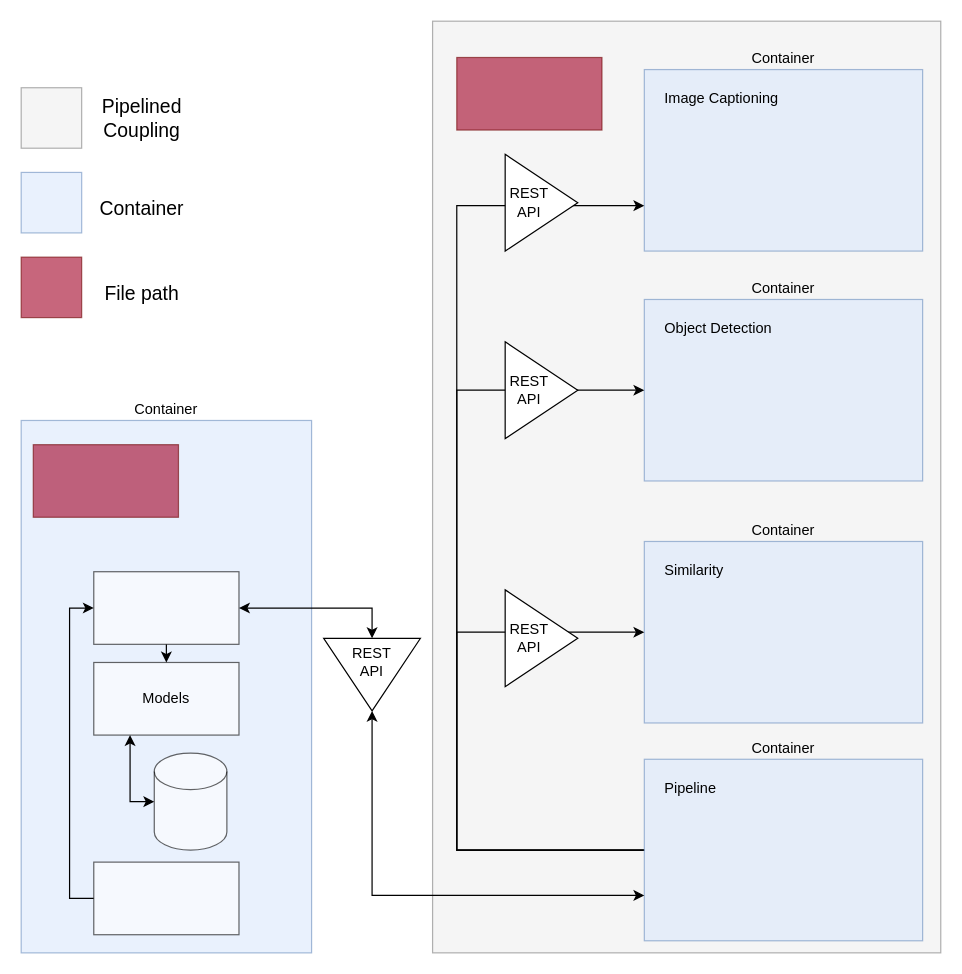
This 962x974 diagram has some shape labels left out. The shapes that lost their labels are listed below. From the top down, each one's centre as x and y in pixels, then its label:
the point at 529,93: /describe/services
the point at 105,480: /describe/flaskr
the point at 166,607: Controller
the point at 190,801: Image Database
the point at 166,898: View
